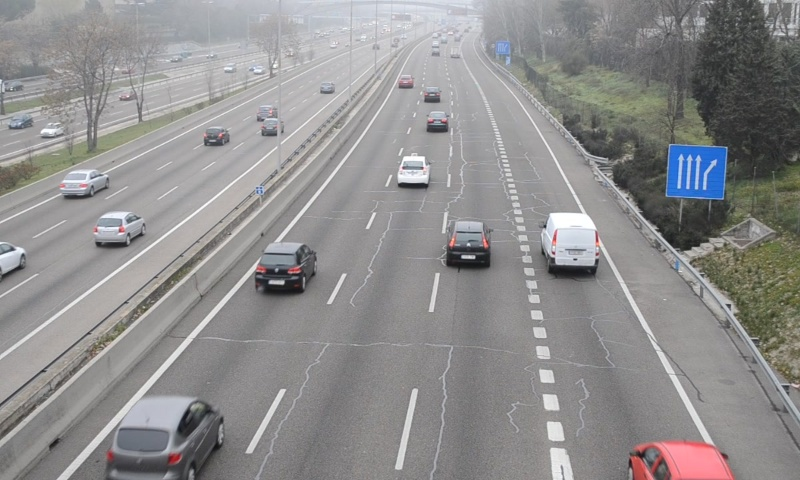car: (105, 396, 222, 480), (254, 242, 318, 289), (448, 220, 489, 266), (398, 154, 432, 184), (425, 110, 448, 132), (423, 85, 441, 102), (396, 74, 414, 89)
van: (542, 212, 600, 270)
